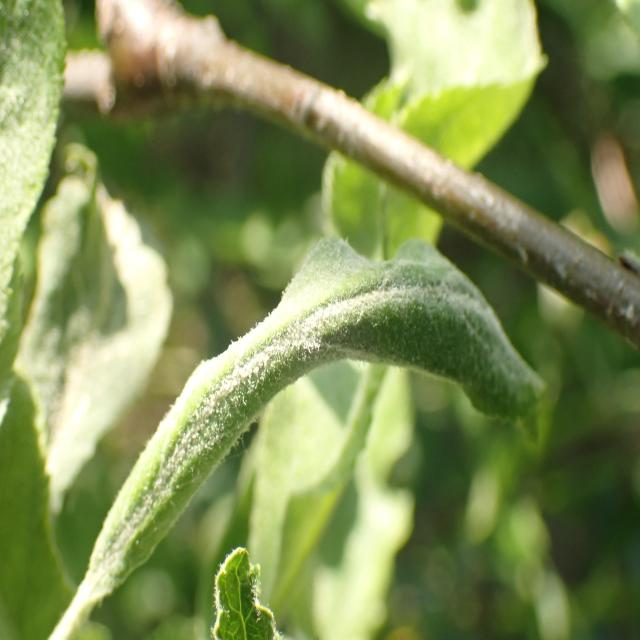Powdery_mildew: (62, 214, 554, 590), (0, 0, 66, 419)
